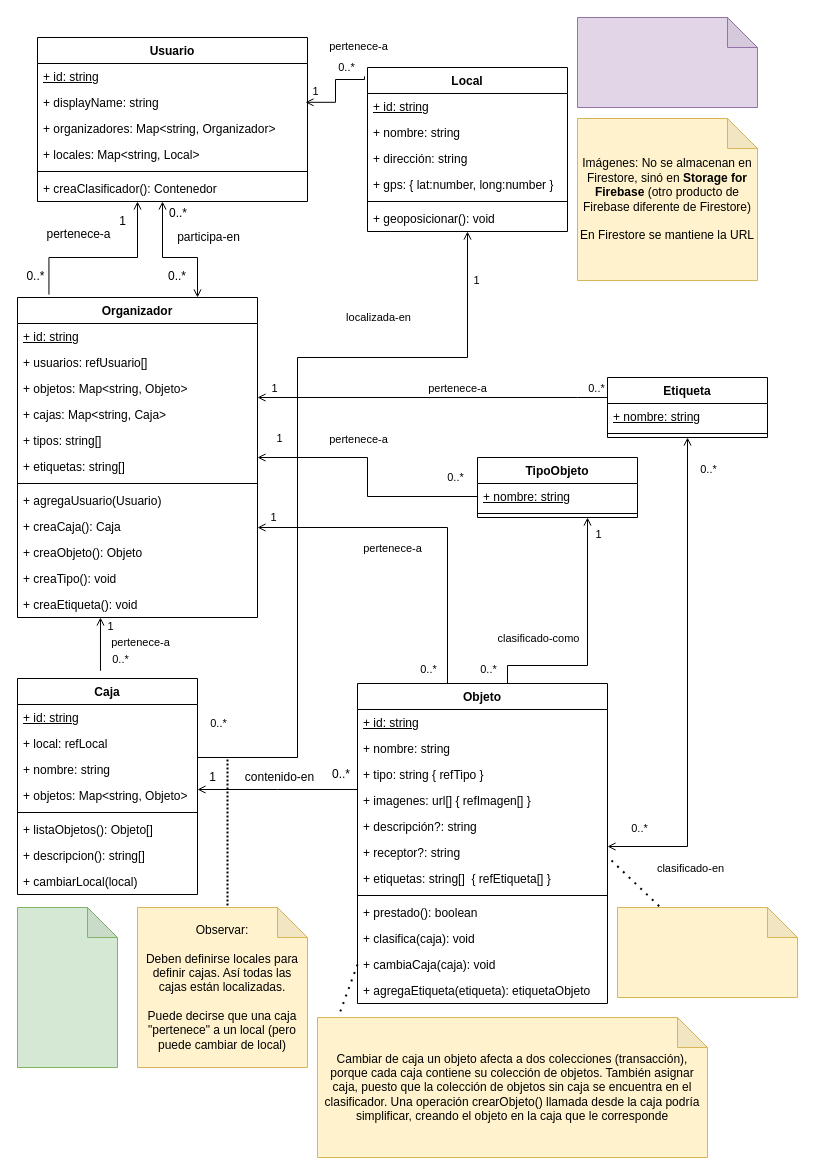
Some shapes in this 815 by 1175 pixel diagram are drawn without their labels. Each missing label, with the centre of its shape:
"Diagrama de clases JSON." goes at point 667,62.
"Diferentes campos según el tipo de objeto, se deja como mejora" goes at point 67,987.
"{ receptor definido si solo si prestado }" goes at point 707,952.
